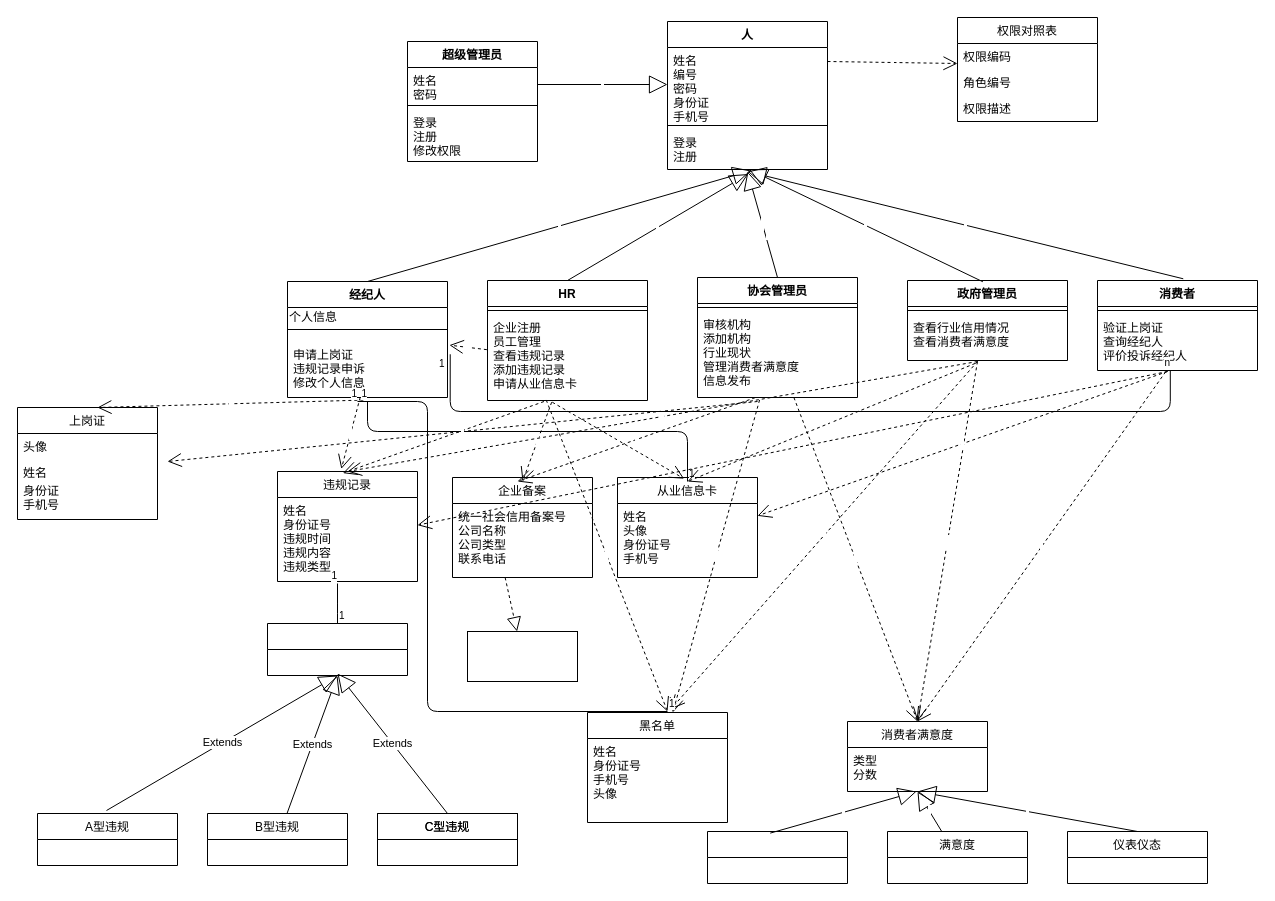
The diagram is 1275 pixels wide and 901 high, and some of its shapes have lost their labels. Here are the shapes that lost their labels. From the top down, the centre of each, then its label:
At [337,649]: "违规类型".
At [522,656]: "«interface» 政府资料".
At [777,857]: "专业度".
